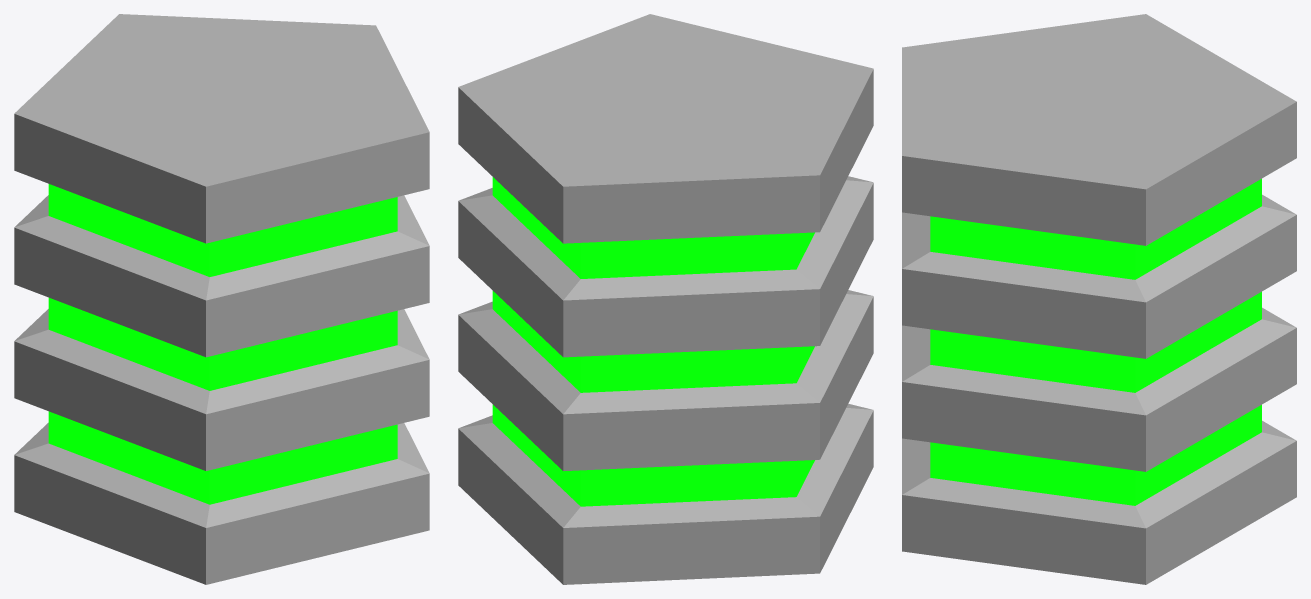
The model's file is tile_food_nextgen.fbx.
3 views of the same model, side by side, from view 1: azimuth 30°, elevation 25°; view 2: azimuth 150°, elevation 25°; view 3: azimuth 270°, elevation 25° (orthographic).
Parts seen in each view (by area): view 1: Farm; view 2: Farm; view 3: Farm.
Part boxes in pixels (box(x1,y1,x2,y2)): Farm: box(14, 14, 429, 584); Farm: box(458, 14, 873, 584); Farm: box(902, 14, 1296, 584).
Bounding box in the file's own units: 1.9 × 2 × 1.81.
